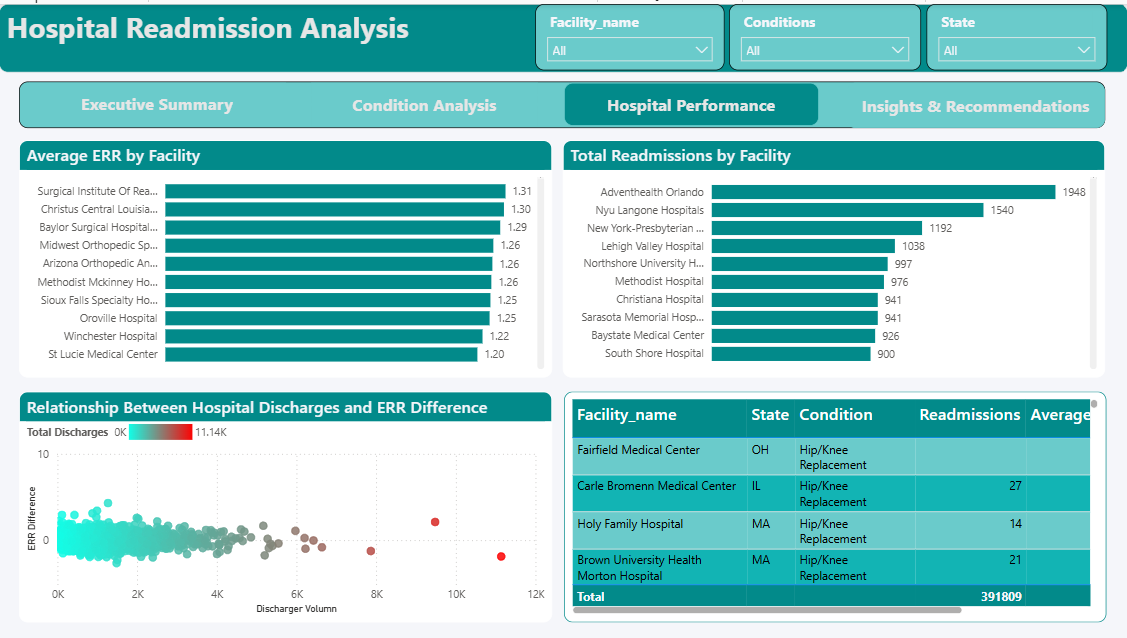

The dashboard page shown, as its layout file describes it:
{"tool":"powerbi","page":{"name":"Hosiptal Performance","canvas":[1280,720],"ordinal":2},"visuals":[{"type":"textbox","title":"Hospital Readmission Analysis","box":[0,0,1280.3,78],"z":0},{"type":"textbox","box":[22.9,87.1,1230,52.9],"z":500,"group":"g2"},{"type":"slicer","fields":{"Values":["cleaned_data.facility_name"]},"box":[607.1,0,214.6,75],"z":1000,"group":"g1"},{"type":"actionButton","title":"Executive Summary ","box":[33.6,88.4,290,47.2],"z":1000,"group":"g2"},{"type":"barChart","title":"Average ERR by Facility","fields":{"Y":["cleaned_data.SEL_AVG_ERR"],"Category":["cleaned_data.facility_name"]},"box":[22.9,154.3,604.3,268.6],"z":1000},{"type":"slicer","fields":{"Values":["cleaned_data.clean_measure_name"]},"box":[826.9,0,217.5,75],"z":2000,"group":"g1"},{"type":"actionButton","title":"Executive Summary ","box":[354.3,88.3,255.7,48.6],"z":2000,"group":"g2"},{"type":"barChart","title":"Total Readmissions by Facility","fields":{"Category":["cleaned_data.facility_name"],"Y":["Sum(cleaned_data.clean_readmissions)"]},"box":[638.6,154.3,614.3,268.6],"z":2000},{"type":"slicer","fields":{"Values":["cleaned_data.state"]},"box":[1049.6,0,204.6,75],"z":3000,"group":"g1"},{"type":"scatterChart","title":"Relationship Between Hospital Discharges and ERR Difference","fields":{"X":["Sum(cleaned_data.clean_discharges)"],"Category":["cleaned_data.facility_name"],"Y":["cleaned_data.SEL_err_diff"]},"box":[22.9,438.6,604.3,261.4],"z":3000},{"type":"actionButton","title":"Executive Summary ","box":[640.8,88.3,288.6,48.6],"z":4000,"group":"g2"},{"type":"tableEx","fields":{"Values":["cleaned_data.facility_name","cleaned_data.state","cleaned_data.clean_measure_name","Sum(cleaned_data.clean_readmissions)","cleaned_data.SEL_AVG_ERR","Sum(cleaned_data.clean_discharges)","Avg(cleaned_data.clean_err)"]},"box":[640,438.6,614.3,261.4],"z":4000},{"type":"group","id":"g1","title":"Group 2","box":[607.1,0,647.1,75],"z":5000},{"type":"group","id":"g2","title":"Group 1","box":[22.9,87.1,1230,52.9],"z":6000},{"type":"actionButton","title":"Executive Summary ","box":[960,88.6,292.9,51.4],"z":7000}]}

Visuals, with their boxes in screenshot pixels (x1, y1, x2, y2), scaled from the page's 1280x720 canvas onto the 1127x638 screenshot:
"Hospital Readmission Analysis" textbox: [x1=0, y1=0, x2=1126, y2=69]
textbox: [x1=20, y1=77, x2=1103, y2=124]
slicer - cleaned_data.facility_name: [x1=535, y1=0, x2=723, y2=66]
"Executive Summary " actionButton: [x1=30, y1=78, x2=285, y2=120]
"Average ERR by Facility" barChart: [x1=20, y1=137, x2=552, y2=375]
slicer - cleaned_data.clean_measure_name: [x1=728, y1=0, x2=920, y2=66]
"Executive Summary " actionButton: [x1=312, y1=78, x2=537, y2=121]
"Total Readmissions by Facility" barChart: [x1=562, y1=137, x2=1103, y2=375]
slicer - cleaned_data.state: [x1=924, y1=0, x2=1104, y2=66]
"Relationship Between Hospital Discharges and ERR Difference" scatterChart: [x1=20, y1=389, x2=552, y2=620]
"Executive Summary " actionButton: [x1=564, y1=78, x2=818, y2=121]
tableEx - cleaned_data.facility_name x cleaned_data.state: [x1=564, y1=389, x2=1104, y2=620]
"Group 2" group: [x1=535, y1=0, x2=1104, y2=66]
"Group 1" group: [x1=20, y1=77, x2=1103, y2=124]
"Executive Summary " actionButton: [x1=845, y1=79, x2=1103, y2=124]
